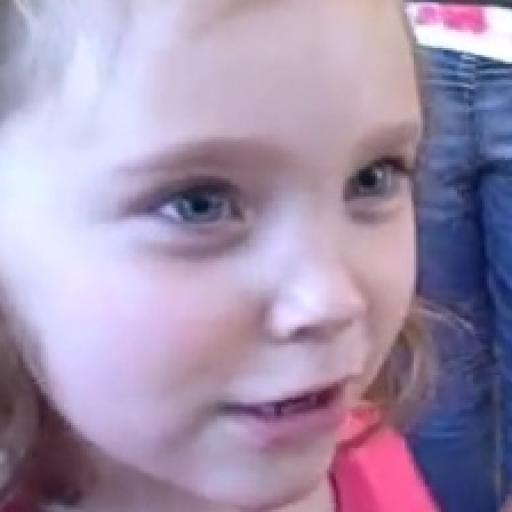Autism: (0, 0, 485, 512)
